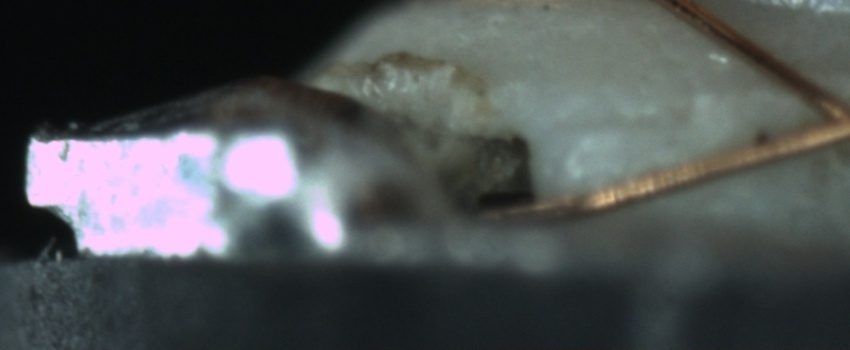DL: (564, 91, 701, 160)
